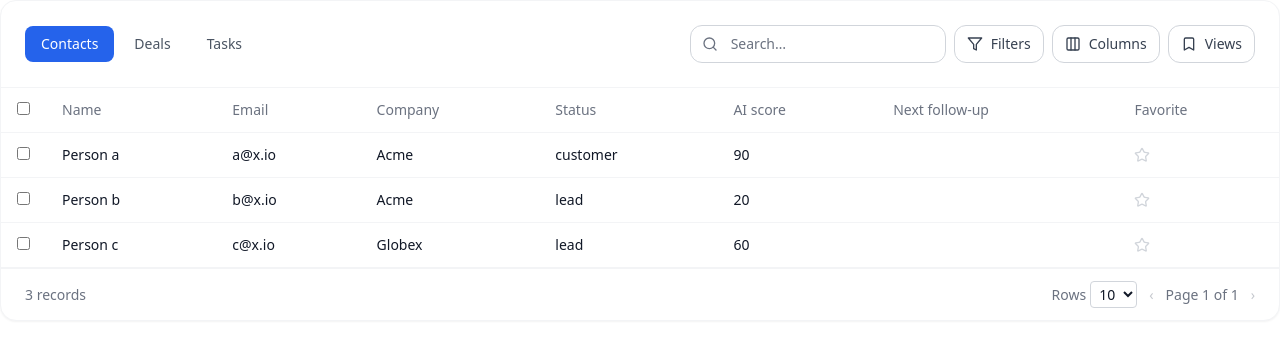
Test: RecordTable › lists contacts with the default columns and switches record type
Expected: the column heading "AI score" is shown, [717,88,877,132]
Click the tab "Deals": x=153, y=44 [118,26,187,62]
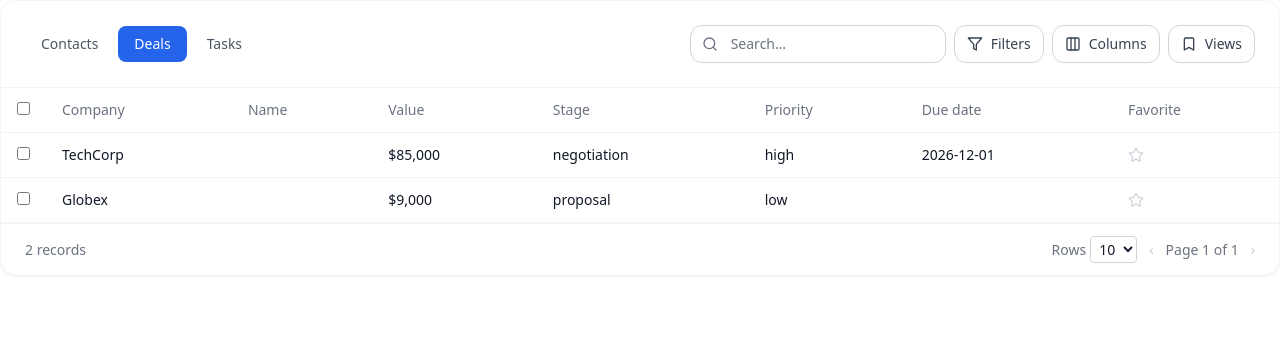
Result: the button "AI score" is gone
